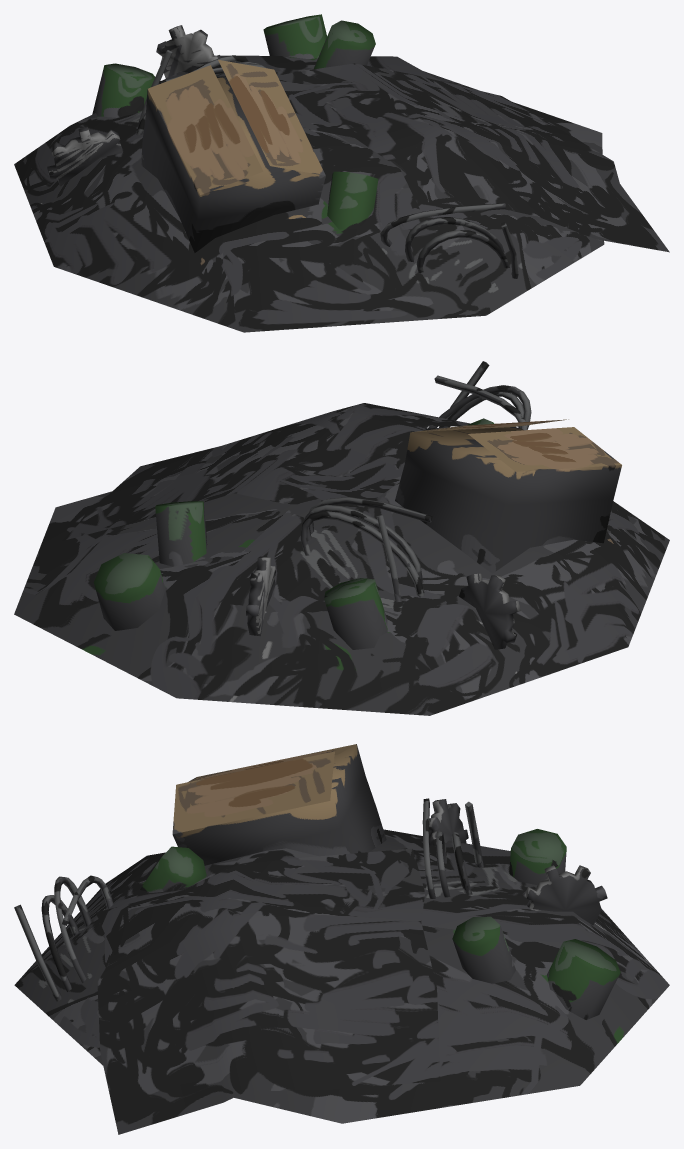
The model's file is Schrott.fbx.
The picture shows the model from 3 angles, top to bottom: view 1: azimuth 30°, elevation 25°; view 2: azimuth 150°, elevation 25°; view 3: azimuth 270°, elevation 25°; orthographic projection. The views are drawn at different scales.
Parts seen in each view (by area): view 1: Schrott; view 2: Schrott; view 3: Schrott.
Part boxes in pixels (left/top/right/bottom): Schrott: left=14, top=14, right=669, bottom=332; Schrott: left=14, top=361, right=669, bottom=715; Schrott: left=14, top=744, right=669, bottom=1134.
Size of the model in its own units: 291 by 102 by 291.
